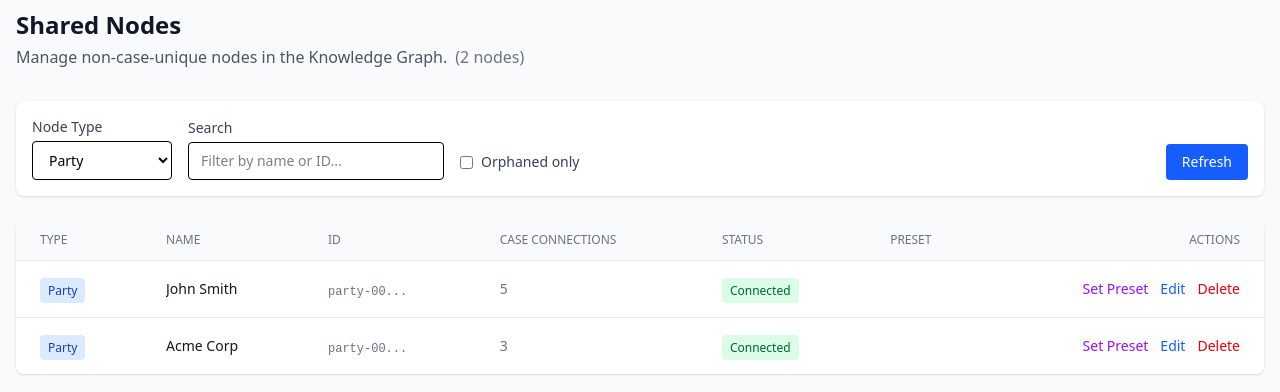
Test: SharedNodesPage › Filtering › changes node type and refetches
Select "Domain" in the dropdown labelled "Node Type" at [102, 160], box x1=32 y1=141 x2=172 y2=180
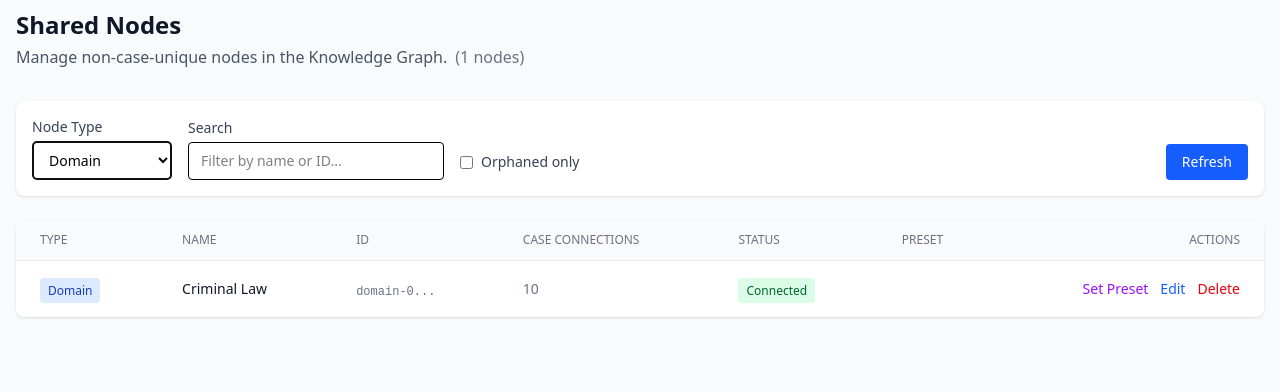
Check: the text "Criminal Law" is shown, box x1=182 y1=279 x2=267 y2=298
